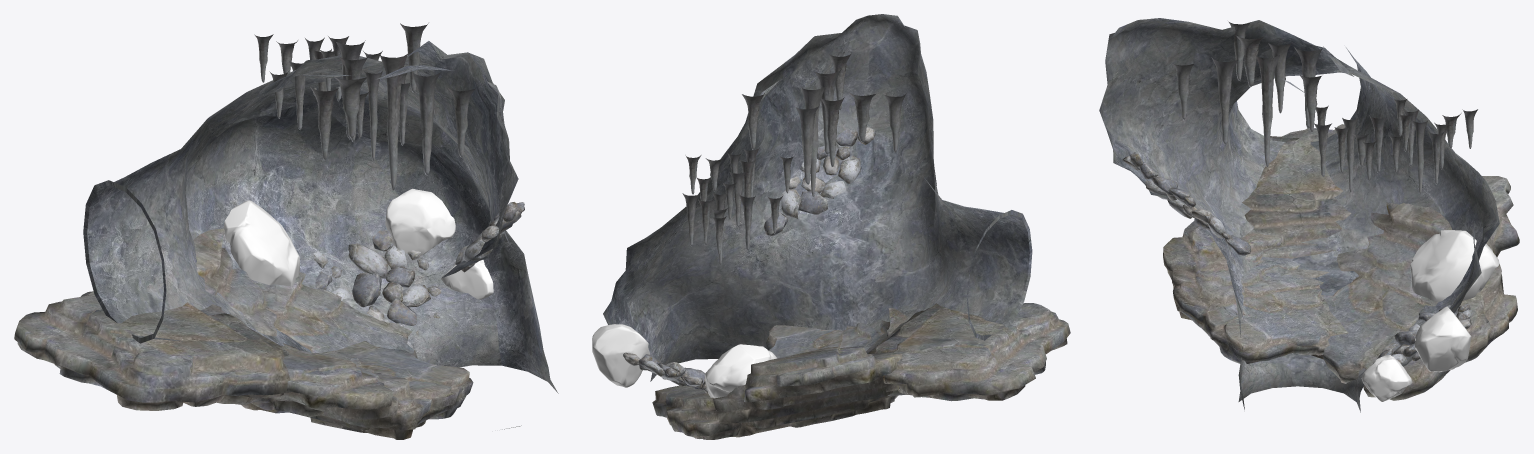
The model's file is cave_steps_down.glb.
3 renders of one model, left to right at view 1: azimuth 30°, elevation 25°; view 2: azimuth 150°, elevation 25°; view 3: azimuth 270°, elevation 25°, orthographic. The views are drawn at different scales.
Parts seen in each view (by area): view 1: cave_steps_down, rock_ledge_a (4), rock_ledge_a (6), rock_ledge_a (5), stalagtites_a (1), cave_gravel_a, Clutter_medium_c, Clutter_medium_b, stalagtites_a (2), stalagtites_a, cave_gravel_b, Clutter_medium_a; view 2: cave_steps_down, rock_ledge_a (5), rock_ledge_a (4), stalagtites_a (1), cave_gravel_b, rock_ledge_a (6), Clutter_medium_b, stalagtites_a (2), stalagtites_a, Clutter_medium_c, cave_gravel_a; view 3: cave_steps_down, rock_ledge_a (5), rock_ledge_a (6), rock_ledge_a (4), stalagtites_a (1), Clutter_medium_c, Clutter_medium_b, stalagtites_a, stalagtites_a (2), cave_gravel_b, Clutter_medium_a, cave_gravel_a.
Part boxes in pixels (box(x1,y1,x2,y2)): cave_steps_down: box(83, 41, 558, 429); rock_ledge_a (4): box(14, 291, 323, 417); rock_ledge_a (6): box(271, 341, 473, 439); rock_ledge_a (5): box(193, 228, 417, 358); stalagtites_a (1): box(310, 23, 476, 190); cave_gravel_a: box(313, 229, 441, 335); Clutter_medium_c: box(223, 200, 299, 286); Clutter_medium_b: box(385, 188, 455, 254); stalagtites_a (2): box(254, 34, 382, 129); stalagtites_a: box(319, 49, 410, 161); cave_gravel_b: box(455, 202, 524, 272); Clutter_medium_a: box(441, 260, 493, 299); cave_steps_down: box(603, 14, 1032, 381); rock_ledge_a (5): box(652, 346, 902, 439); rock_ledge_a (4): box(859, 303, 1070, 402); stalagtites_a (1): box(742, 53, 906, 196); cave_gravel_b: box(764, 120, 876, 236); rock_ledge_a (6): box(765, 308, 909, 358); Clutter_medium_b: box(592, 324, 649, 387); stalagtites_a (2): box(682, 176, 782, 265); stalagtites_a: box(685, 147, 793, 226); Clutter_medium_c: box(704, 344, 777, 398); cave_gravel_a: box(623, 352, 707, 393); cave_steps_down: box(1099, 18, 1499, 412); rock_ledge_a (5): box(1311, 176, 1519, 400); rock_ledge_a (6): box(1163, 221, 1348, 363); rock_ledge_a (4): box(1242, 124, 1351, 277); stalagtites_a (1): box(1172, 21, 1323, 167); Clutter_medium_c: box(1410, 230, 1499, 301); Clutter_medium_b: box(1414, 306, 1471, 372); stalagtites_a: box(1314, 105, 1413, 192); stalagtites_a (2): box(1389, 99, 1477, 194); cave_gravel_b: box(1122, 152, 1250, 255); Clutter_medium_a: box(1361, 355, 1412, 401); cave_gravel_a: box(1373, 303, 1472, 363).
Bounding box in the file's own units: 10.53 × 8.38 × 9.34.
Materials: 5 (4 with a texture image).
